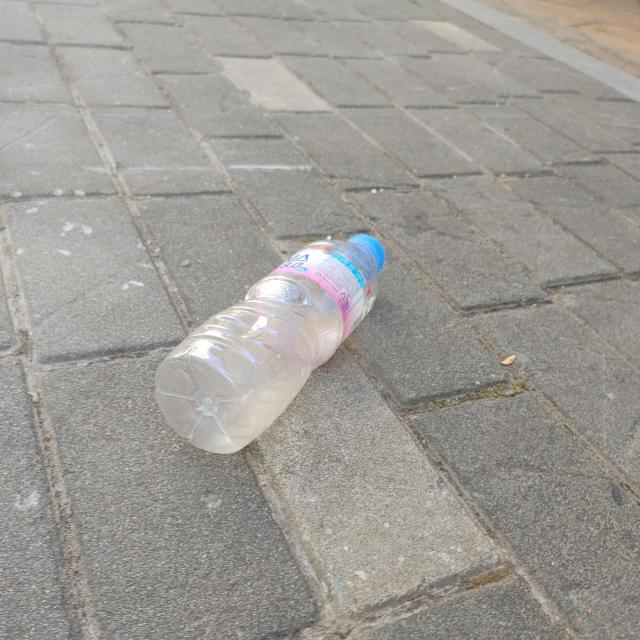plastic: (155, 234, 385, 454)
